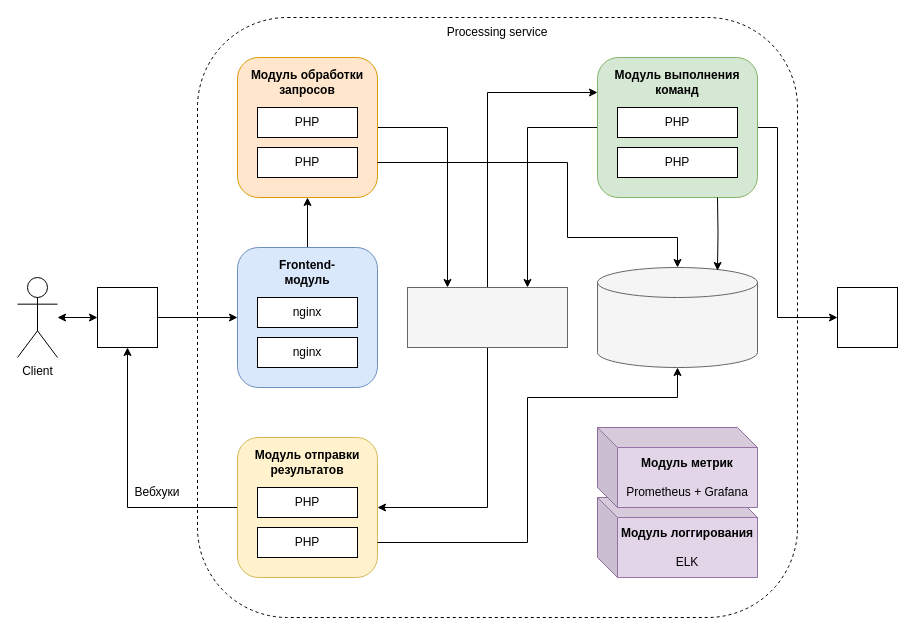
This 915x635 diagram has some shape labels left out. The shapes that lost their labels are listed below. From the top down, each one's centre as x and y in pixels, then its label:
At [127,317]: "Merchant".
At [487,317]: "Шина данных Kafka".
At [677,317]: "База данных MySQL".
At [867,317]: "Provider".
